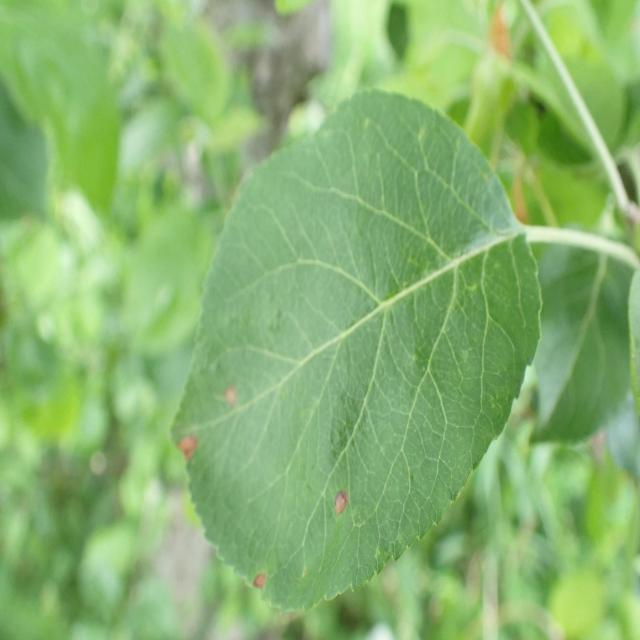Black Rot: (318, 461, 362, 556), (152, 426, 207, 478), (213, 364, 245, 436), (247, 562, 276, 610)
